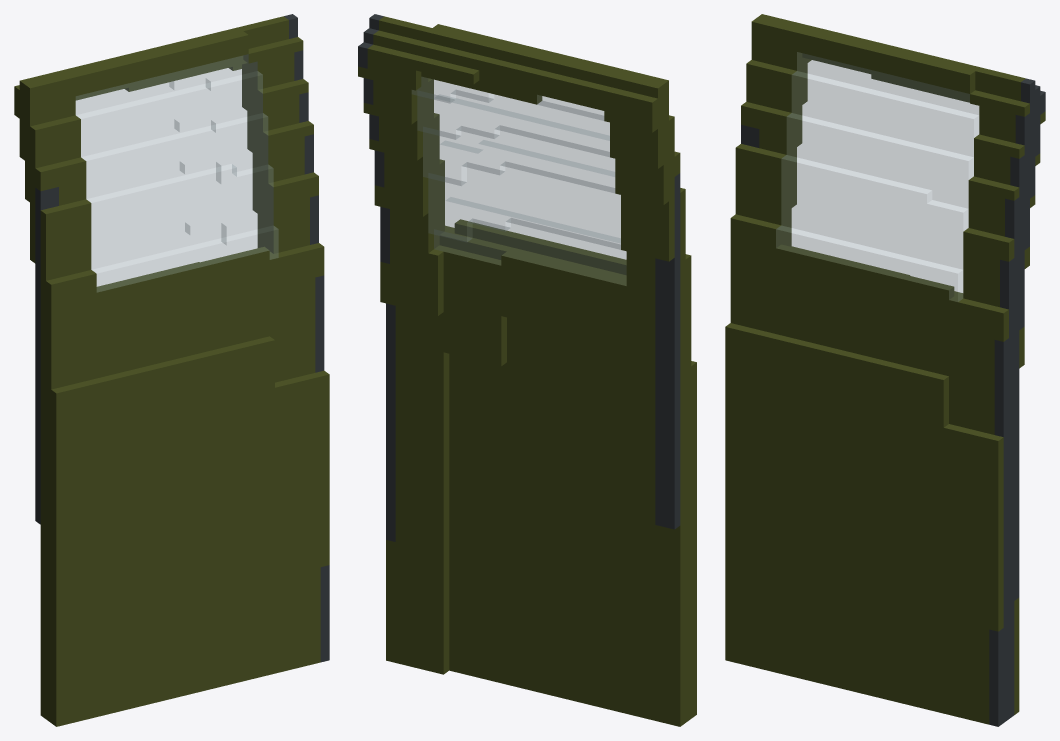
The model's file is heavy_cargo_helicopter_crew_door.glb.
3 views of the same model, side by side, from view 1: azimuth 30°, elevation 25°; view 2: azimuth 150°, elevation 25°; view 3: azimuth 330°, elevation 25° (orthographic). The views are drawn at different scales.
Visible parts, largest first — view 1: body:compound; view 2: body:compound; view 3: body:compound.
Part boxes in pixels (x1=…): body:compound: x1=14, y1=14, x2=329, y2=726; body:compound: x1=358, y1=14, x2=696, y2=726; body:compound: x1=725, y1=14, x2=1045, y2=726.
Size of the model in its own units: 0.9375 by 2.03 by 0.2812.
